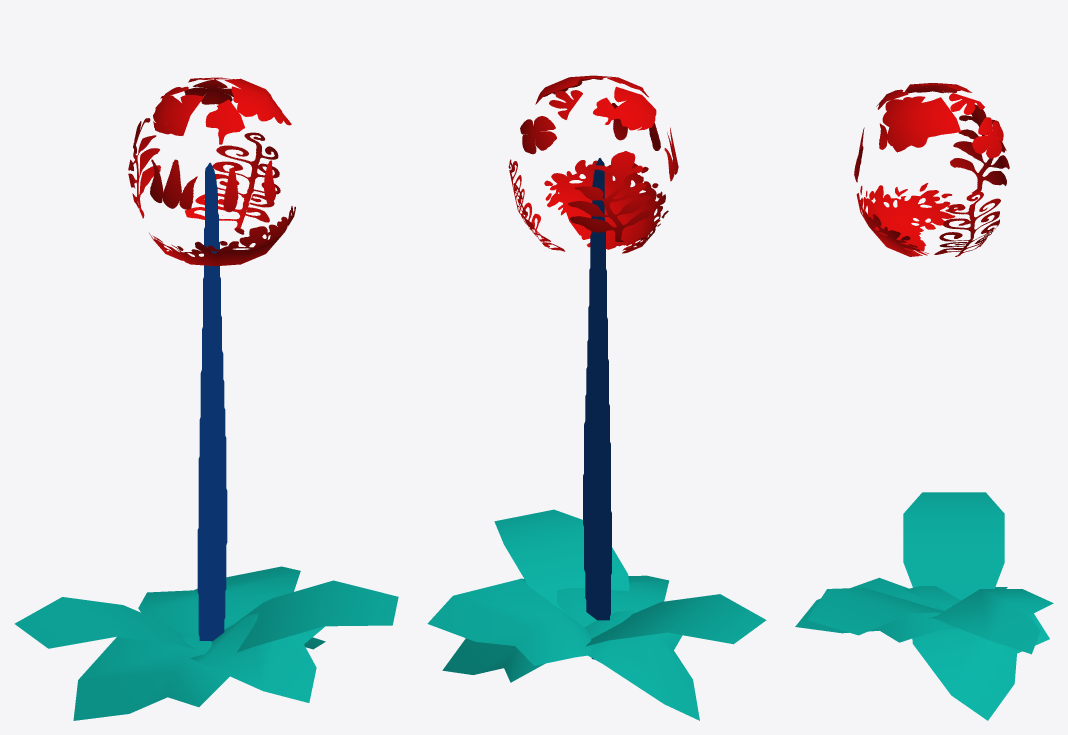
File: SM_FloorDandelion1 1.fbx
3 renders of one model, left to right at view 1: azimuth 30°, elevation 25°; view 2: azimuth 150°, elevation 25°; view 3: azimuth 270°, elevation 25°, orthographic. The views are drawn at different scales.
Visible parts, largest first — view 1: Plane422; view 2: Plane422; view 3: Plane422.
Boxes of the visible parts, left/top/right/bottom form: Plane422: left=14, top=77, right=398, bottom=720; Plane422: left=427, top=75, right=766, bottom=720; Plane422: left=795, top=83, right=1053, bottom=720.
Bounding box in the file's own units: 6.38 × 13.16 × 4.88.
